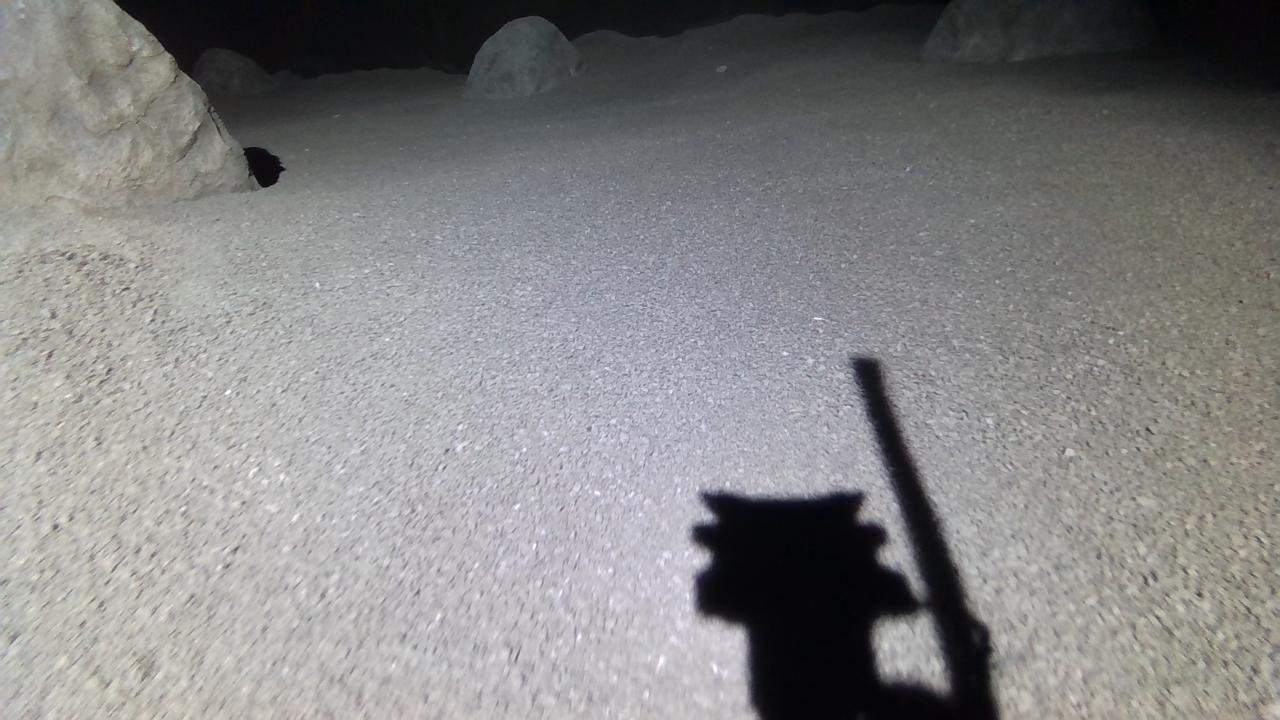rock: (0, 0, 255, 206), (464, 15, 581, 96), (192, 48, 276, 94)
